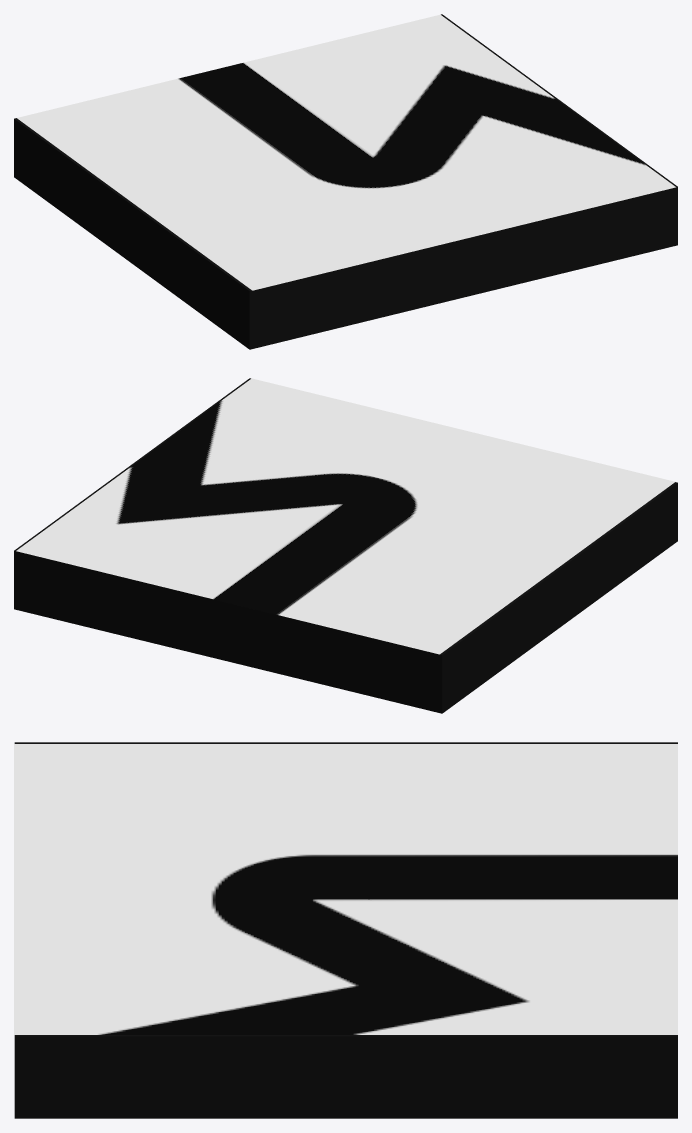
File: basso_sinistra.fbx
3 renders of one model, top to bottom at view 1: azimuth 30°, elevation 25°; view 2: azimuth 150°, elevation 25°; view 3: azimuth 270°, elevation 25°, orthographic. The views are drawn at different scales.
Visible parts, largest first — view 1: Cube.003; view 2: Cube.003; view 3: Cube.003.
Part boxes in pixels (x1,y1,x2,y2): Cube.003: (14, 14, 677, 349); Cube.003: (14, 378, 677, 713); Cube.003: (14, 742, 677, 1118).
Size of the model in its own units: 2.12 by 0.2772 by 2.02.
